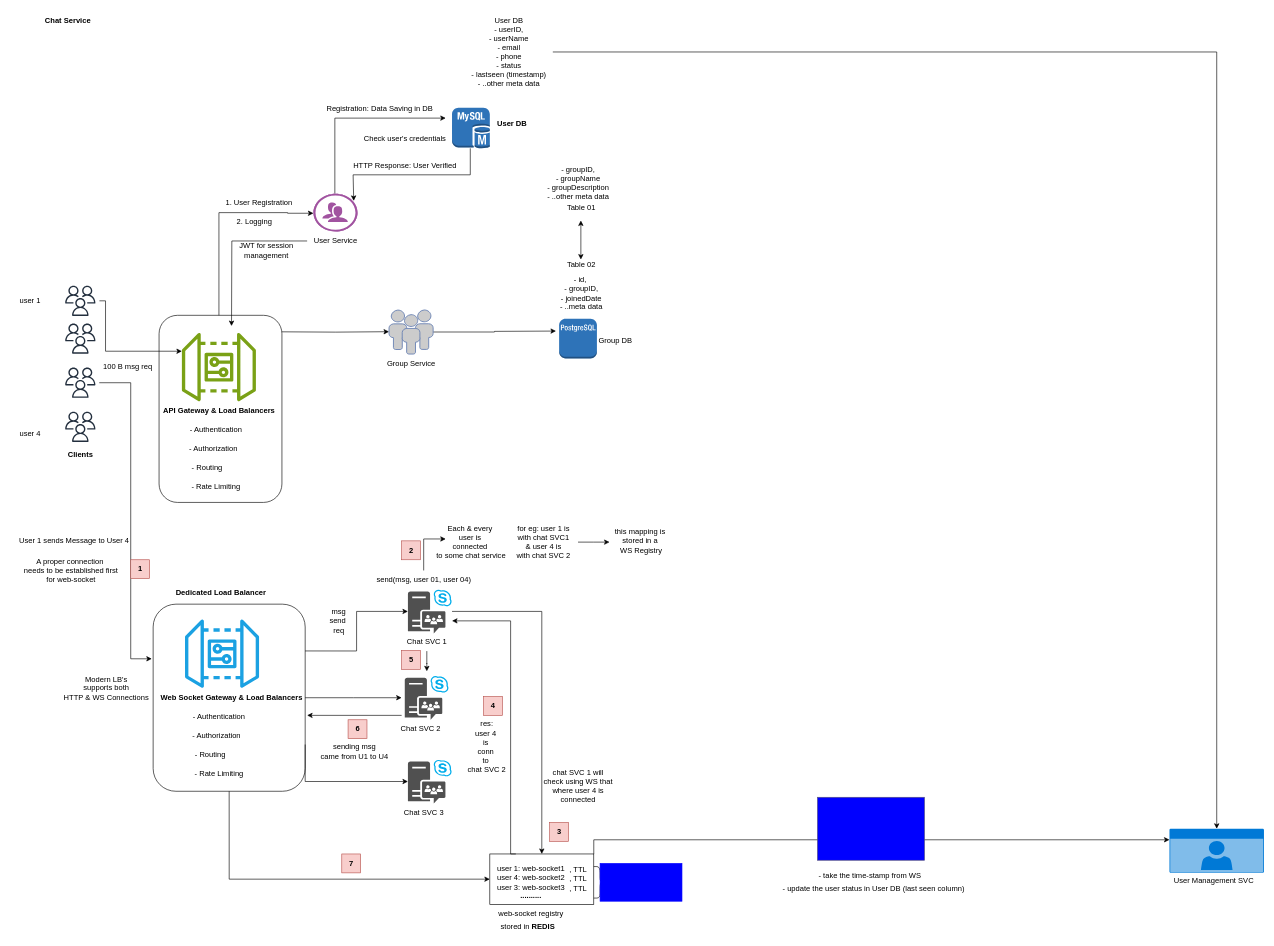
Image size: 1274x946. Some labels were removed from this diagram. The centre of each missing label's shape, as x and y in pixels:
CDC Pipeline to capture last active time: point (871, 828)
these are open Web sockets connections: point (640, 882)
User: point (1216, 850)
